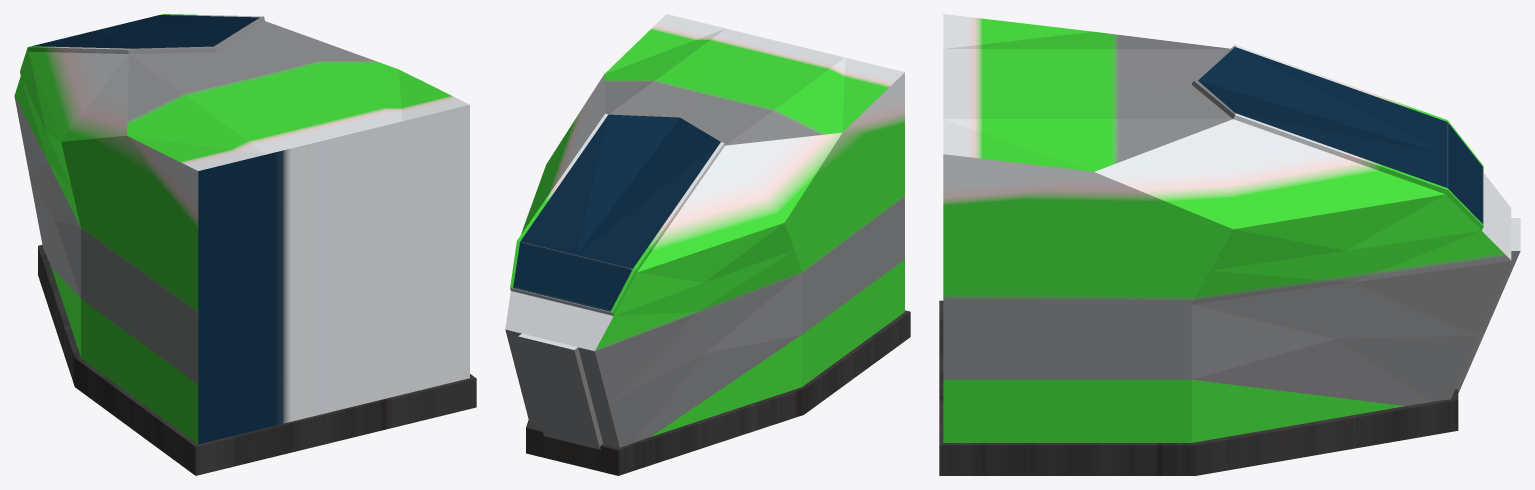
File: train-engine_2.fbx
3 views of the same model, side by side, from view 1: azimuth 30°, elevation 25°; view 2: azimuth 150°, elevation 25°; view 3: azimuth 270°, elevation 25° (orthographic). The views are drawn at different scales.
Parts seen in each view (by area): view 1: Cube.065; view 2: Cube.065; view 3: Cube.065.
Boxes of the visible parts, x1,y1,x2,y2 form: Cube.065: [14, 14, 476, 475]; Cube.065: [505, 14, 910, 475]; Cube.065: [939, 14, 1520, 475].
Bounding box in the file's own units: 207 × 215 × 351.
